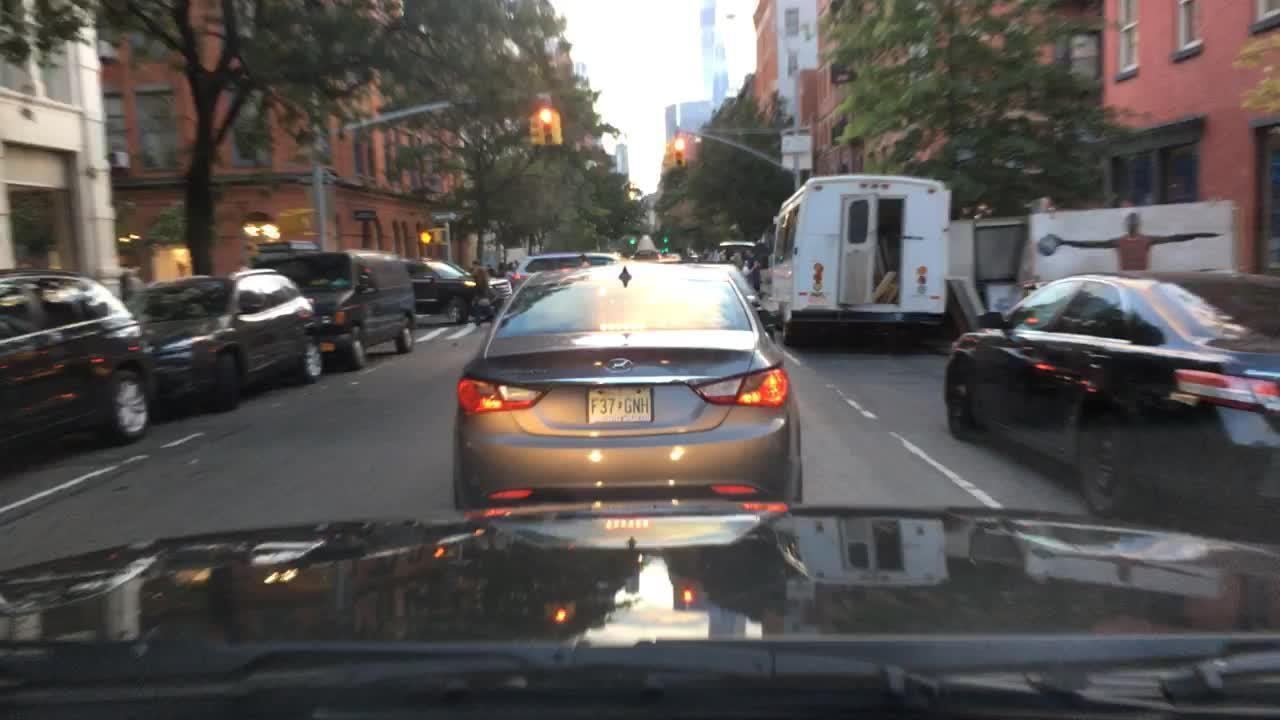Hyundai: (594, 350, 644, 382)
